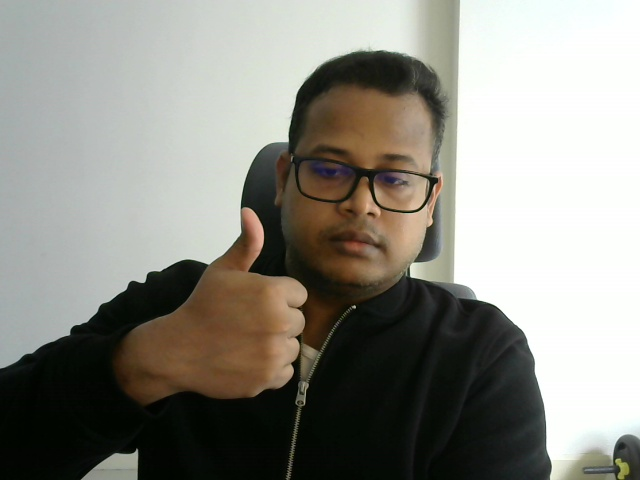ThumbsUp: (189, 205, 307, 398)
